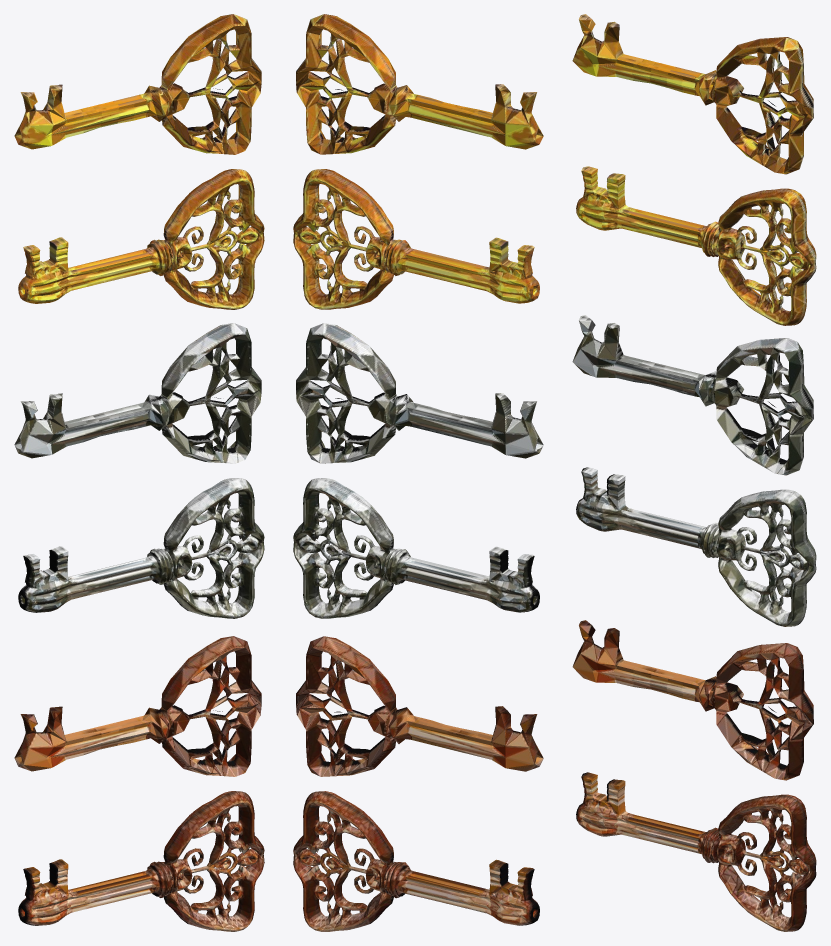
Rendered from llaves_ornamentadas.glb.
3 views of the same model, side by side, from view 1: azimuth 30°, elevation 25°; view 2: azimuth 150°, elevation 25°; view 3: azimuth 330°, elevation 25° (orthographic). The views are drawn at different scales.
Parts seen in each view (by area): view 1: llave plateada 2_3, llave bronce 2_5, llave dorada 2_1, llave plateada 1_2, llave bronce 1_4, llave dorada 1_0; view 2: llave bronce 2_5, llave dorada 2_1, llave plateada 2_3, llave bronce 1_4, llave plateada 1_2, llave dorada 1_0; view 3: llave plateada 2_3, llave dorada 2_1, llave bronce 2_5, llave bronce 1_4, llave plateada 1_2, llave dorada 1_0.
Boxes of the visible parts, x1,y1,x2,y2 form: llave plateada 2_3: (18,478,264,618); llave bronce 2_5: (18,791,264,931); llave dorada 2_1: (18,169,264,309); llave plateada 1_2: (14,323,261,463); llave bronce 1_4: (14,636,261,776); llave dorada 1_0: (14,14,261,154); llave bronce 2_5: (293,791,539,931); llave dorada 2_1: (293,169,539,309); llave plateada 2_3: (293,478,539,618); llave bronce 1_4: (296,636,543,776); llave plateada 1_2: (296,323,543,463); llave dorada 1_0: (296,14,543,154); llave plateada 2_3: (576,467,816,626); llave dorada 2_1: (576,166,816,325); llave bronce 2_5: (576,772,816,931); llave bronce 1_4: (572,620,813,780); llave plateada 1_2: (572,315,813,475); llave dorada 1_0: (572,14,813,174).
Size of the model in its own units: 1.79 by 6.38 by 0.2338.
6 materials, 6 textured.
